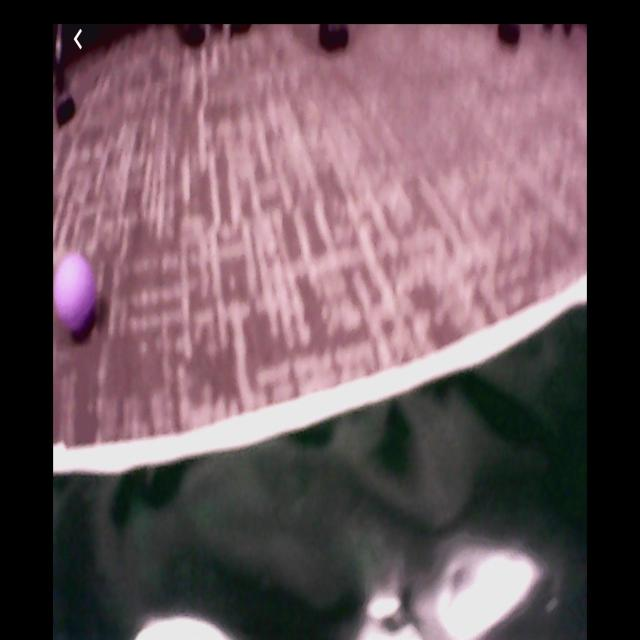ball: (54, 250, 99, 343)
